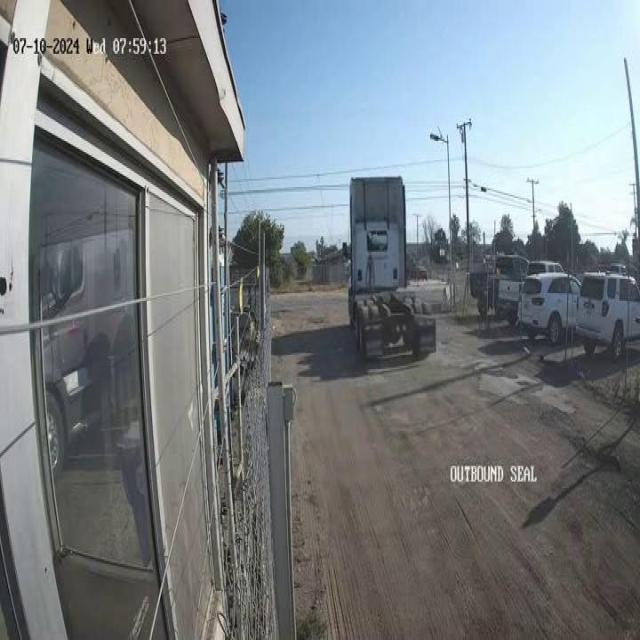BOBTAIL: (342, 174, 436, 361)
